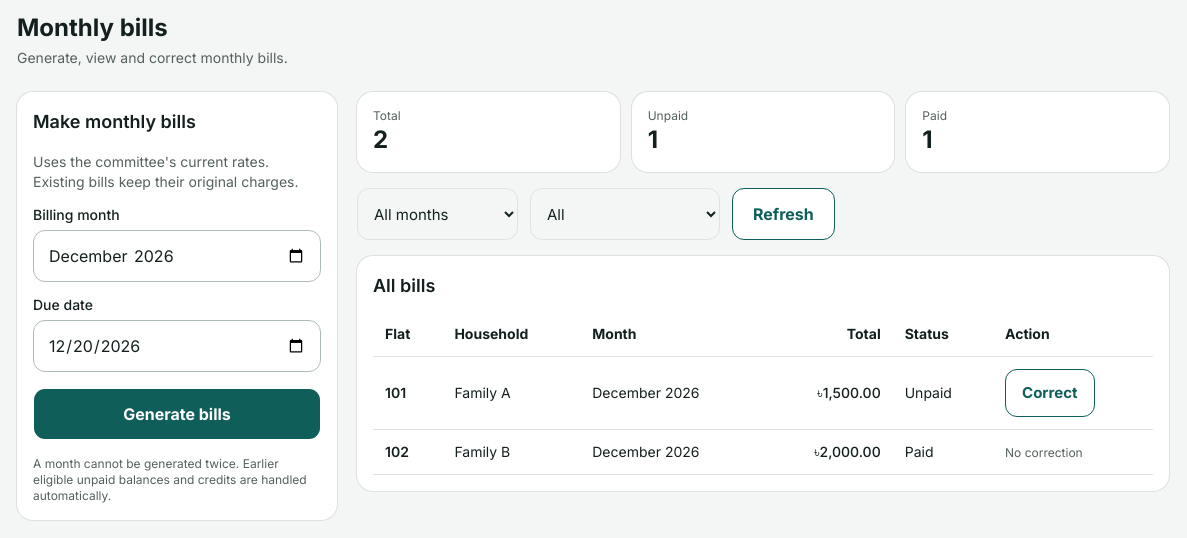
BB-0509 Manager Bills Page › filters bills by payment status
Check: the text "Family A" is shown, box [442,356,580,430]
Select "Paid" in the dropdown named "Filter by status": (625, 214) [530,188,720,240]
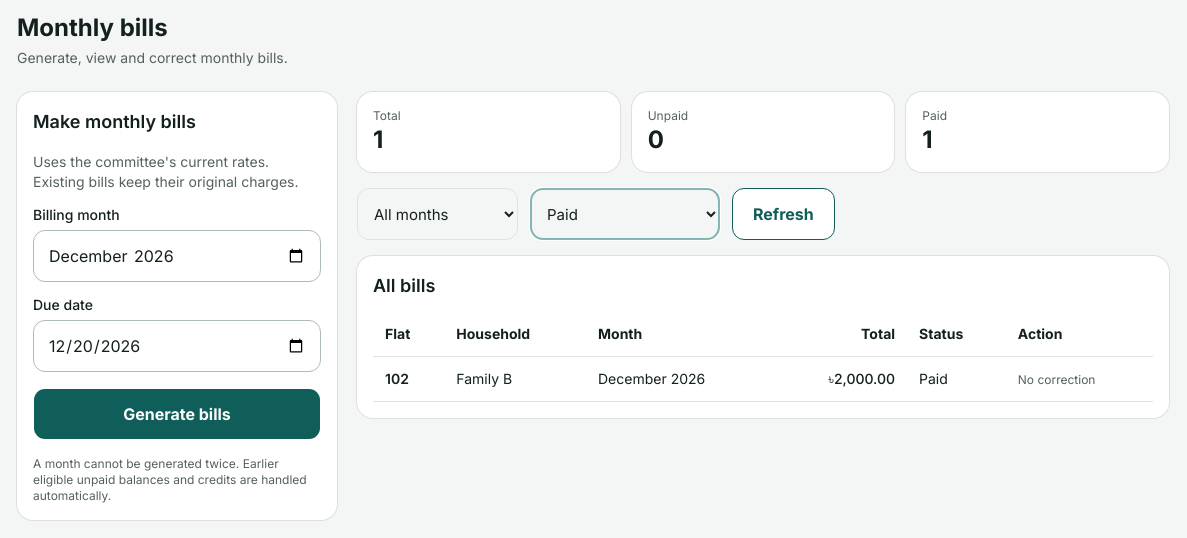
Check: the text "Family B" is shown, box [444,356,586,402]
Check: the text "Family A" is gone
